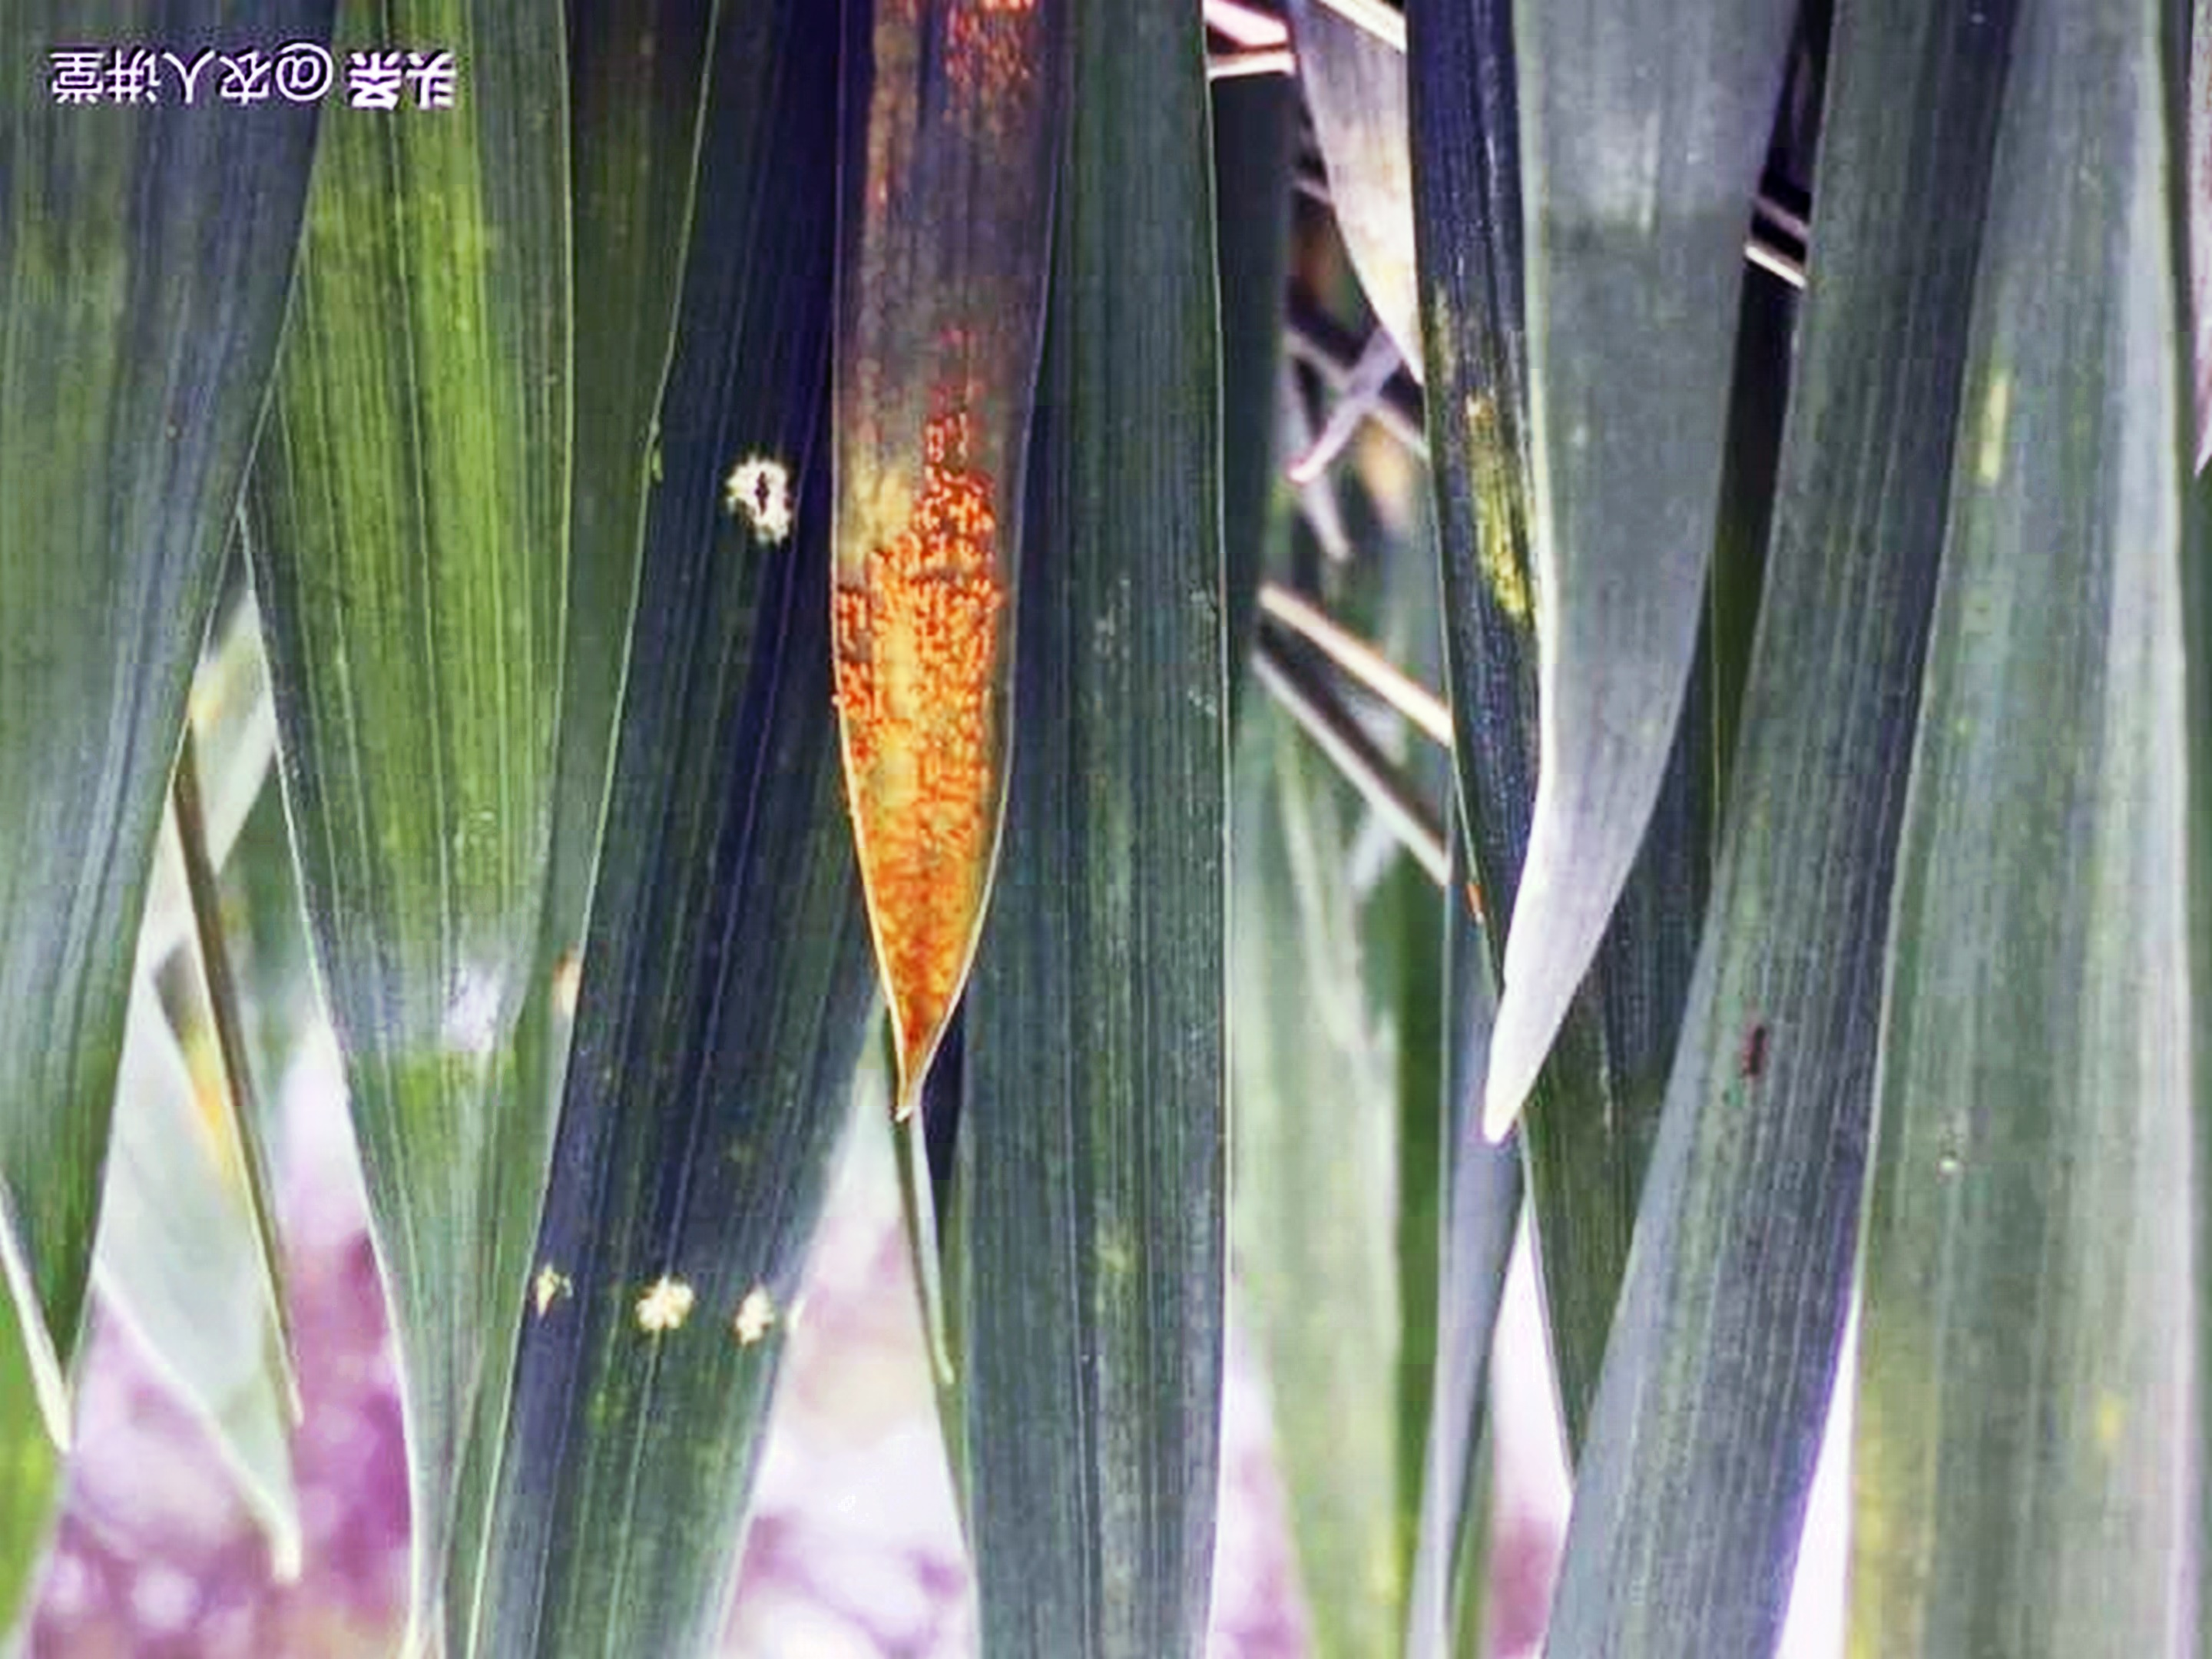Leaf Rust: (782, 23, 1089, 1018)
